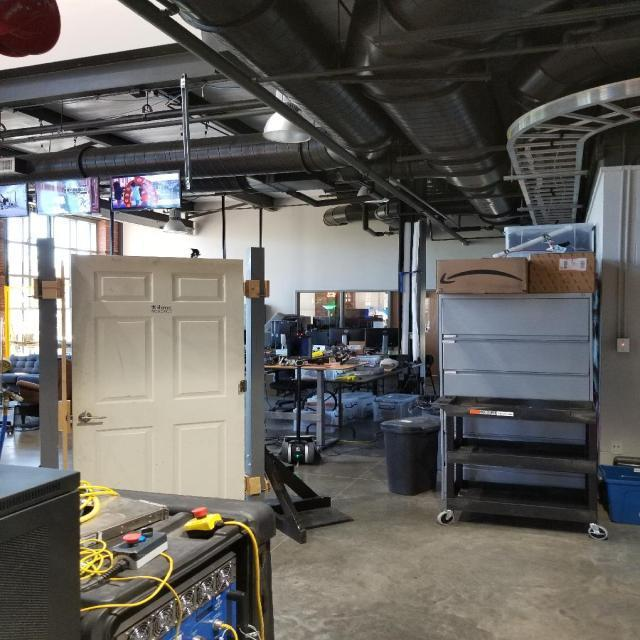door: (66, 248, 249, 526), (79, 406, 107, 423)
